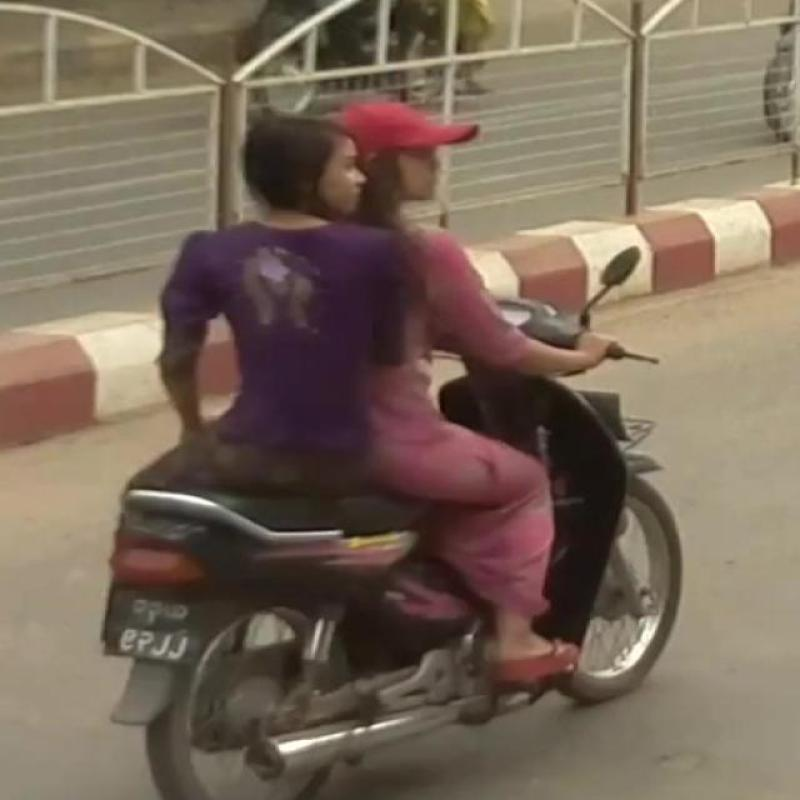nohelmet: (229, 82, 380, 228)
